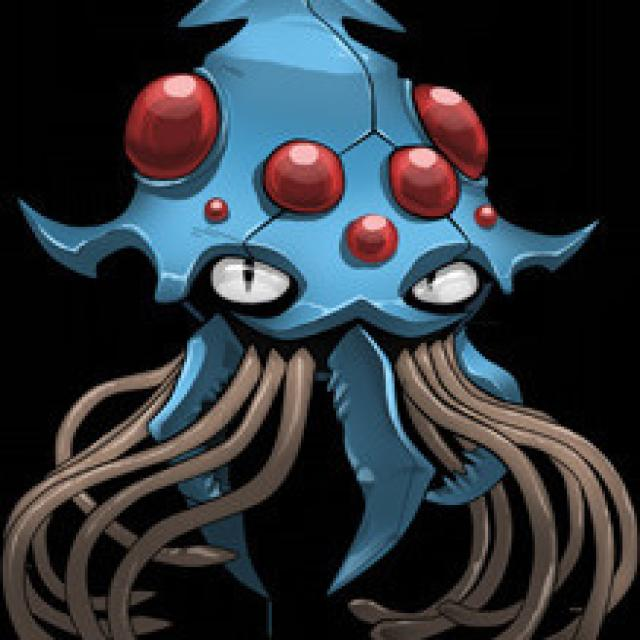Tentacruel: (106, 36, 526, 496)
